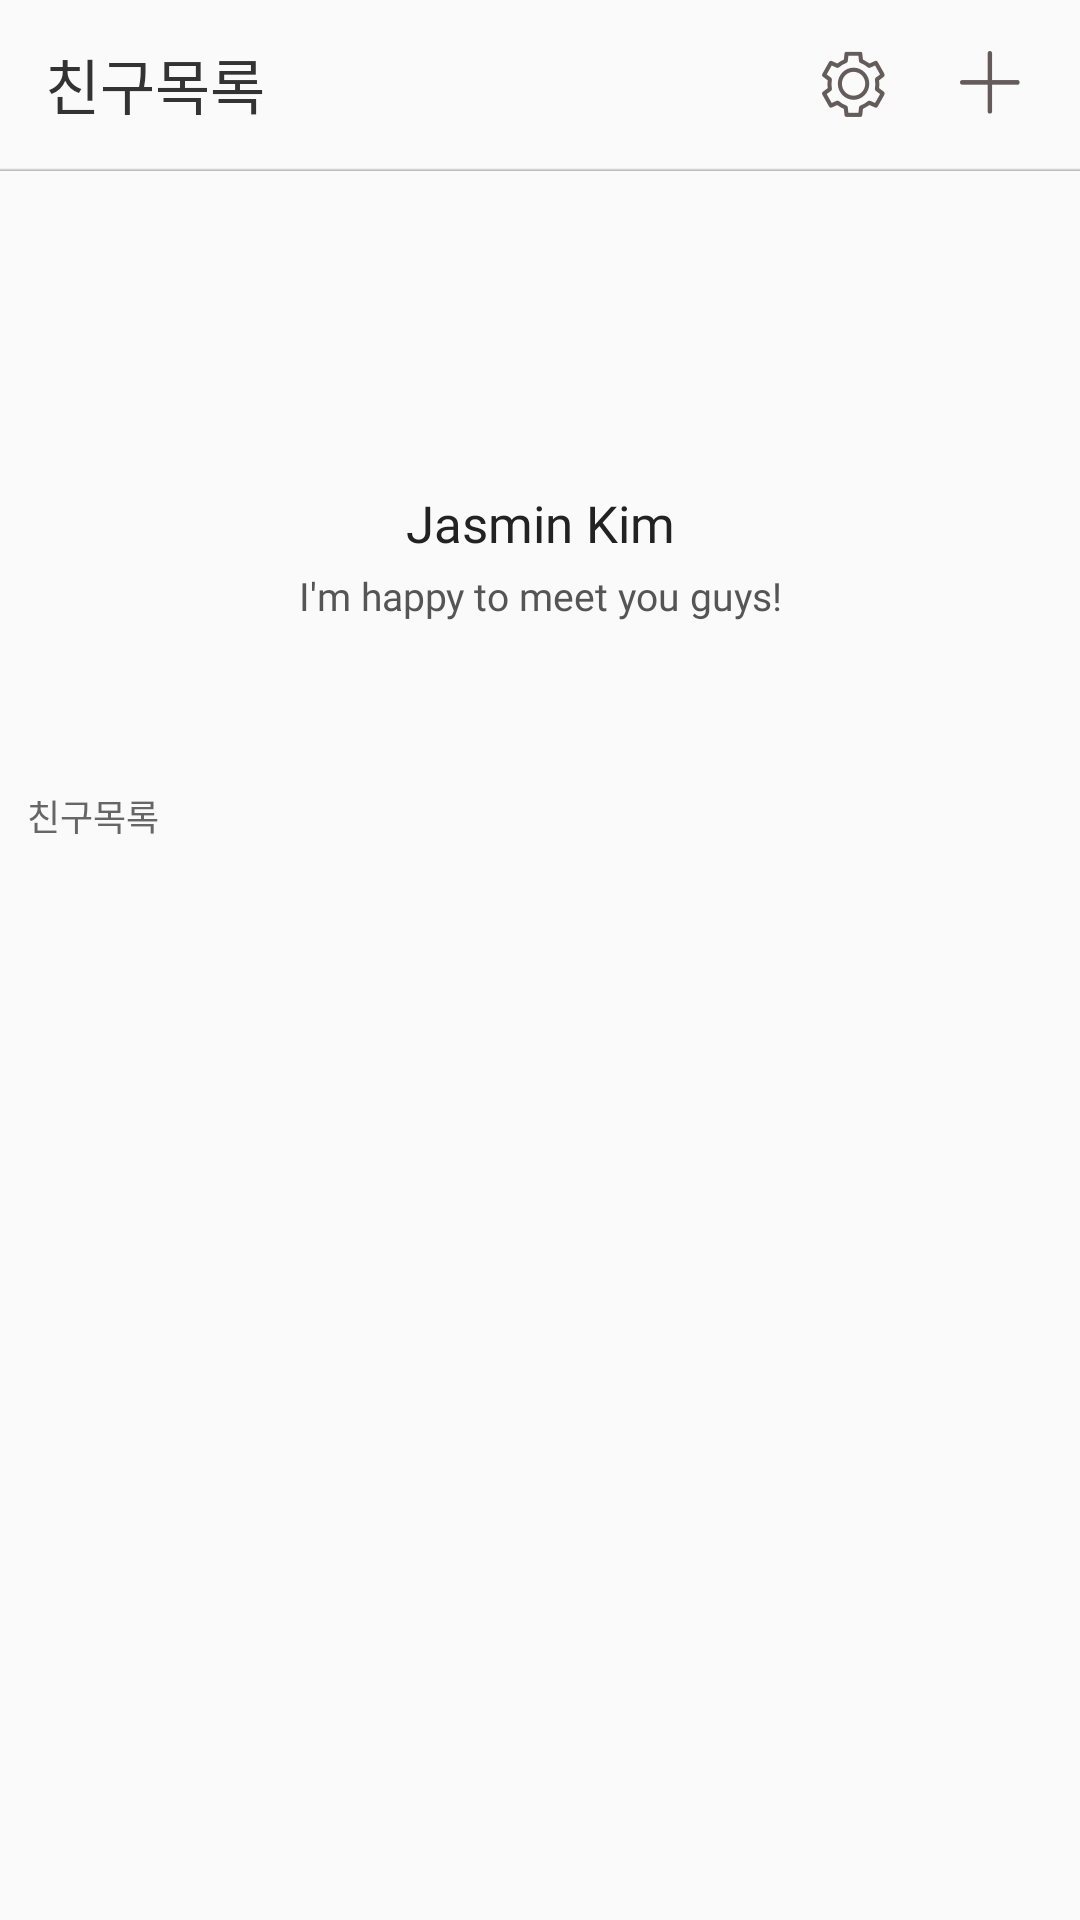

Locate icon controls on the screen. Image size 1080 x 1920, boxes as (x1, y1, x2, y2).
plus: (960, 51, 1020, 114)
setting: (822, 52, 885, 117)
